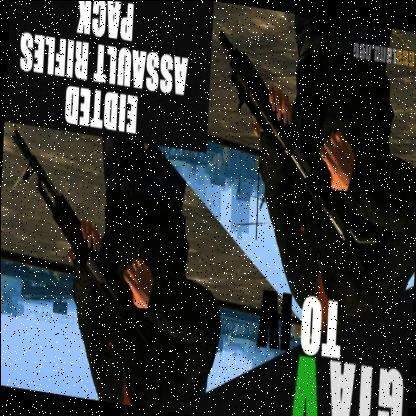rifle: (201, 20, 395, 280), (0, 127, 187, 377)
